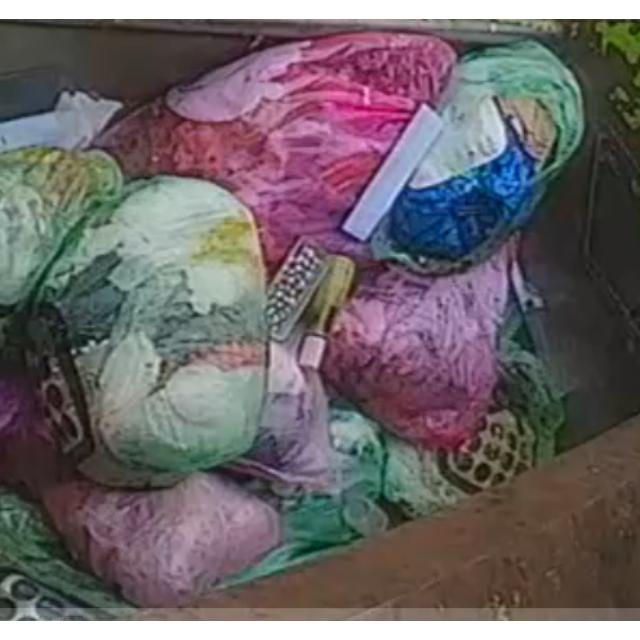general_trashbag: (41, 176, 266, 485), (372, 42, 584, 272), (382, 302, 565, 517), (0, 148, 124, 316)
other_trashbag: (94, 33, 456, 270), (321, 243, 513, 450), (45, 474, 282, 607)
